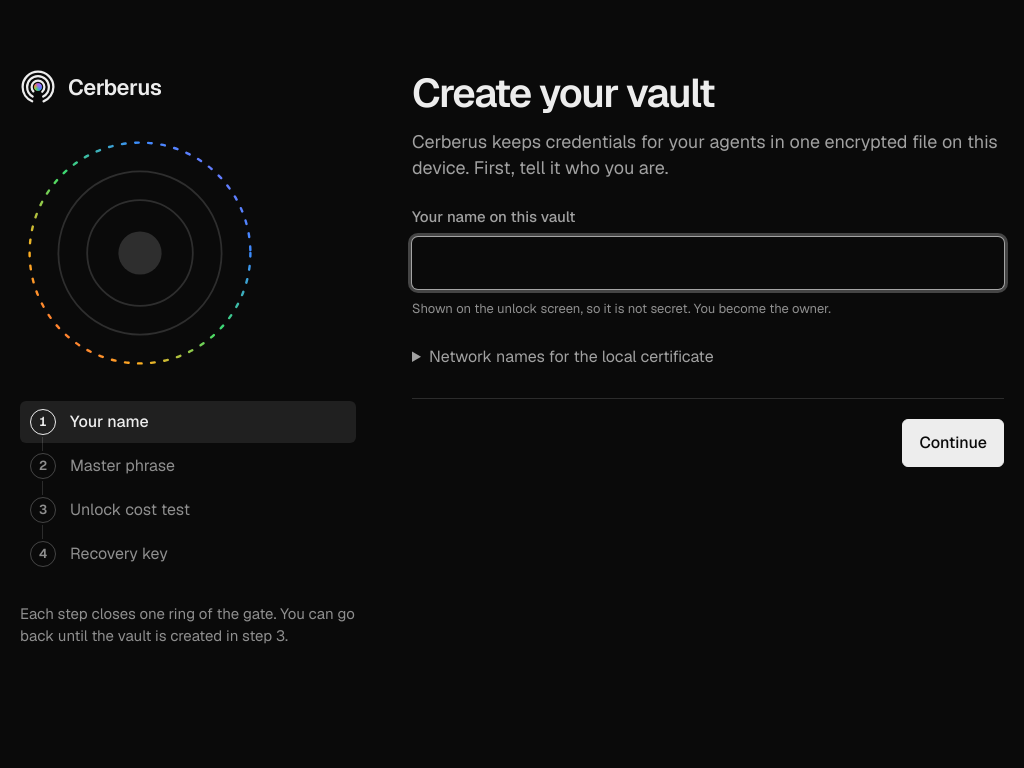
Scenario: create vault › adds and removes an extra network name, and rejects a bad one
Click the heading "Network names for the local certificate" at x=571, y=357, box [429, 346, 714, 367]
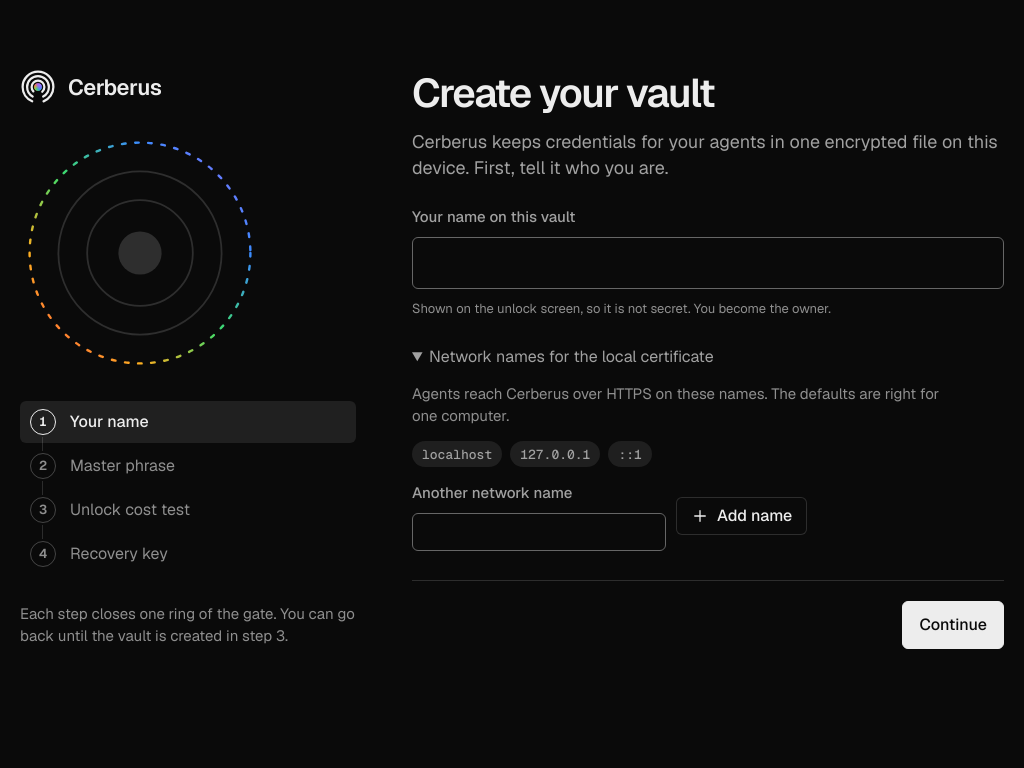
Type "bad name/" into the field labelled "Another network name" at x=539, y=532, box [412, 513, 666, 551]
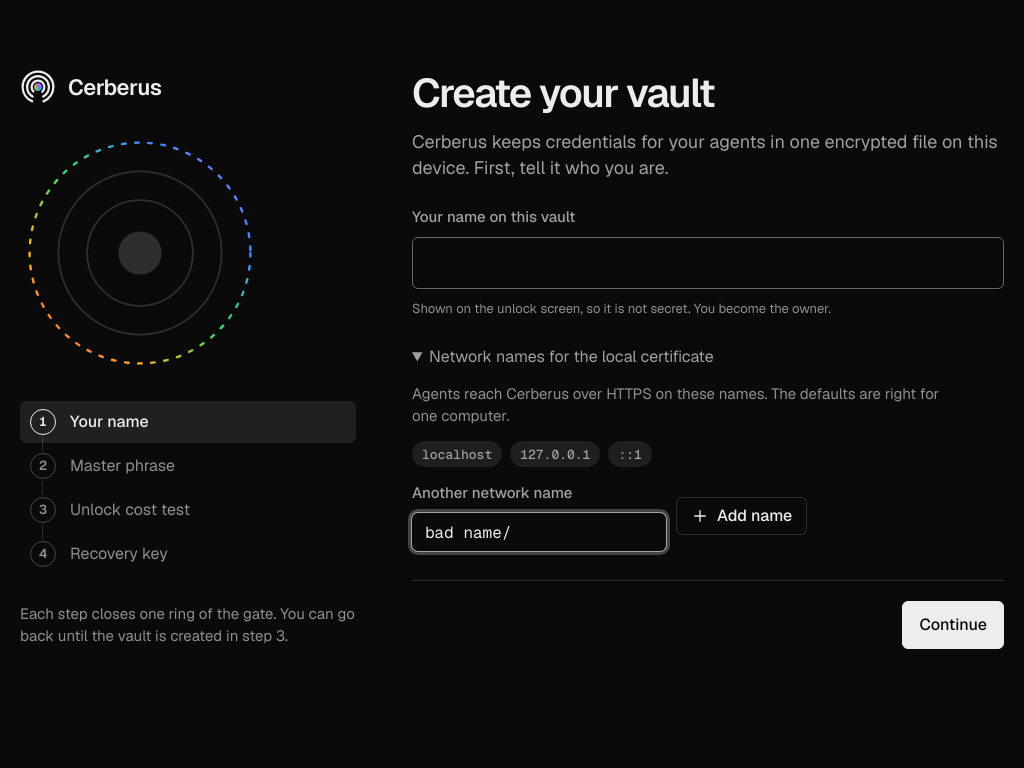
Click the button "Add name" at x=742, y=516, box [676, 497, 807, 535]
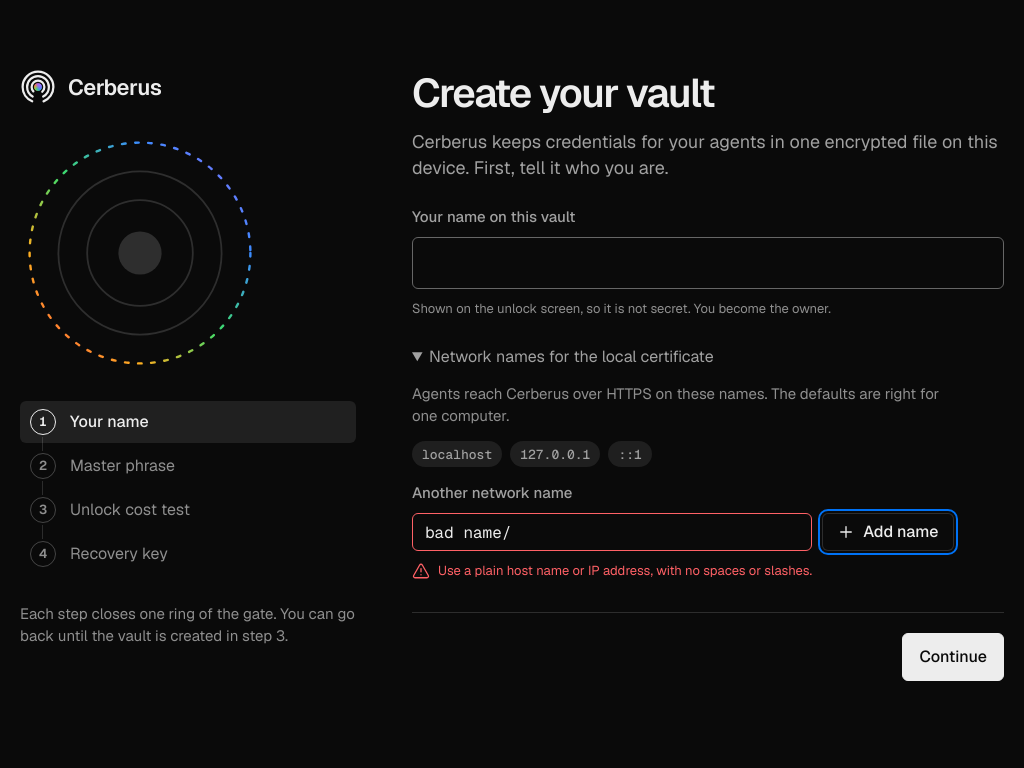
Expected: the text "plain host name" is shown, [438, 562, 812, 579]
Replace the text in the field labelled "Another network name" with "ana-laptop" at x=612, y=532, box [412, 513, 812, 551]
Then press Enter
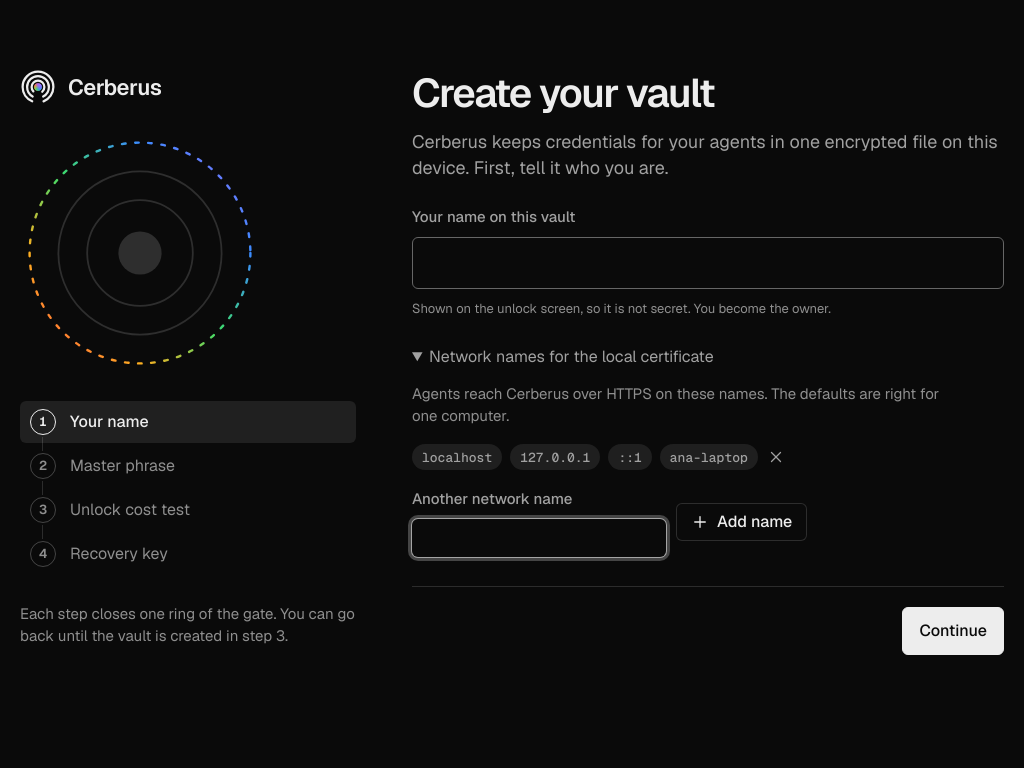
Expected: the text "ana-laptop" is shown, [660, 444, 758, 470]
Click the button named "Remove ana-laptop" at x=776, y=457, box [760, 441, 792, 473]
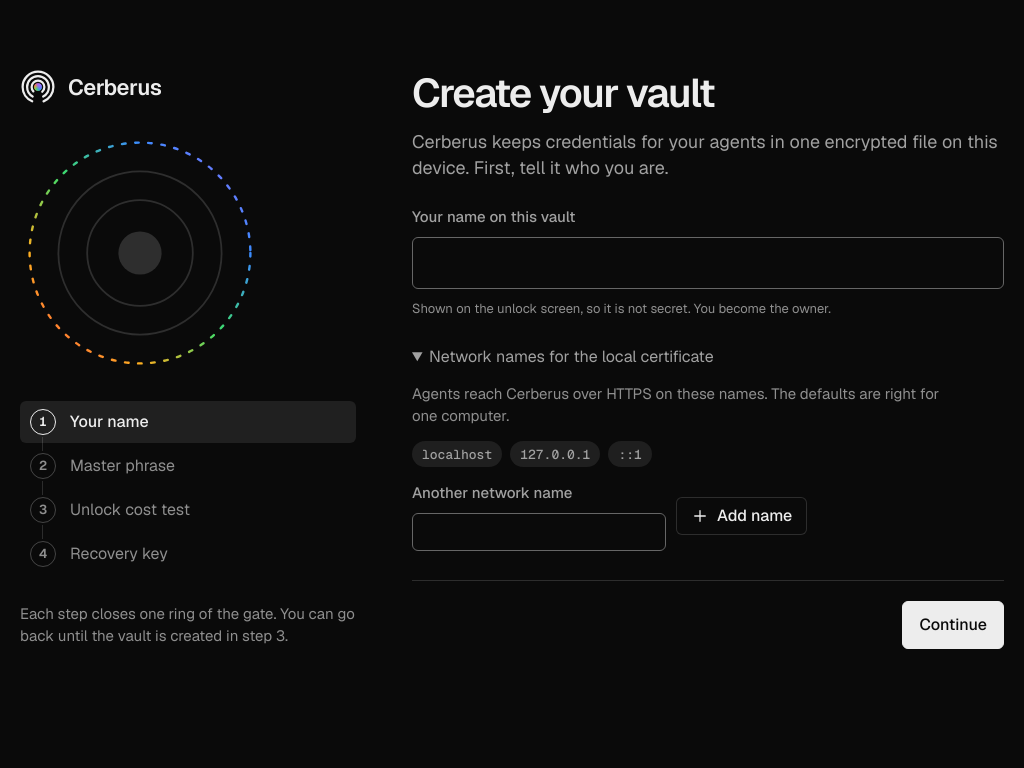
Expected: the text "ana-laptop" is gone
